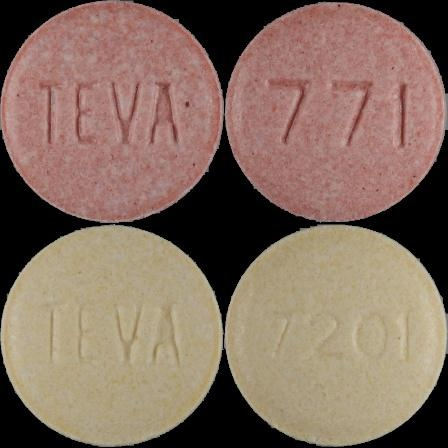53808-0765: (0, 0, 224, 224)
